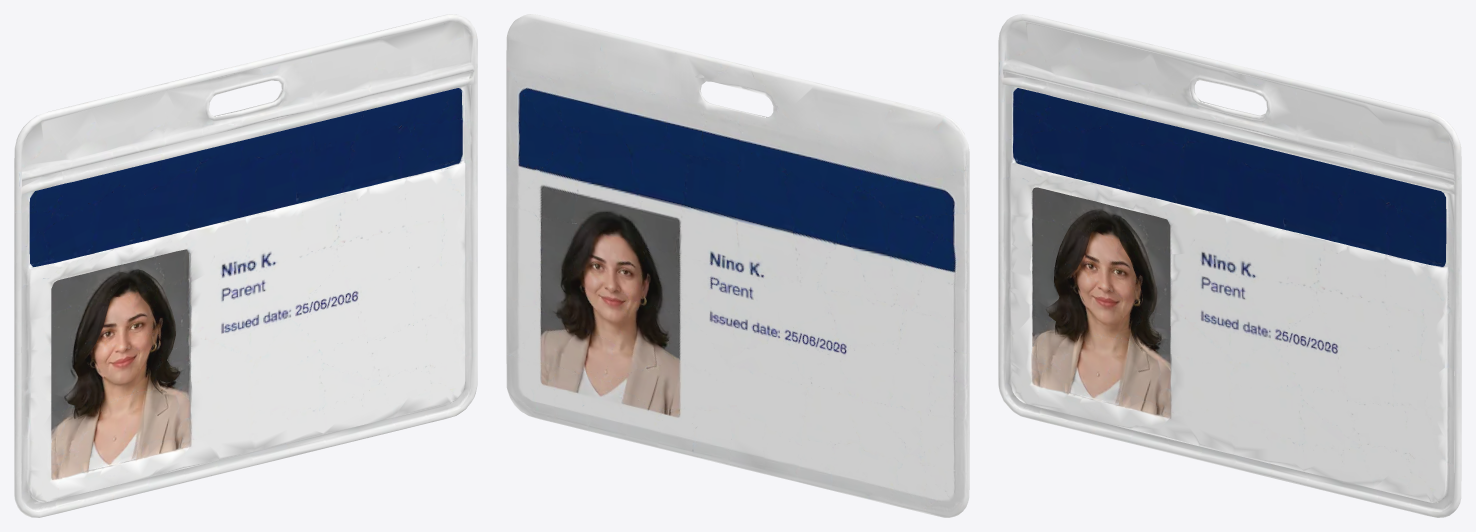
Rendered from ambassador-card.glb.
3 renders of one model, left to right at view 1: azimuth 30°, elevation 25°; view 2: azimuth 150°, elevation 25°; view 3: azimuth 330°, elevation 25°, orthographic.
Parts seen in each view (by area): view 1: mesh_node; view 2: mesh_node; view 3: mesh_node.
Part boxes in pixels (x1,y1,x2,y2): mesh_node: (14,14,477,517); mesh_node: (506,14,969,517); mesh_node: (998,14,1461,517).
Size of the model in its own units: 2 by 1.67 by 0.031.
1 material, 1 textured.
